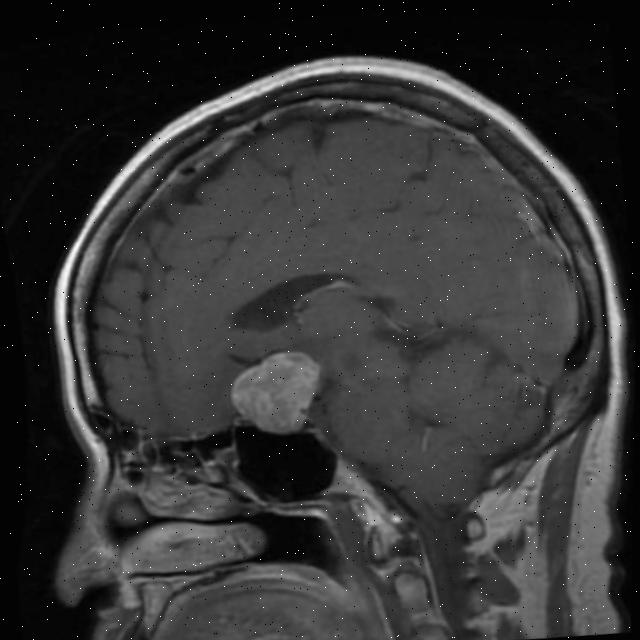Pituitary: (225, 345, 326, 441)
